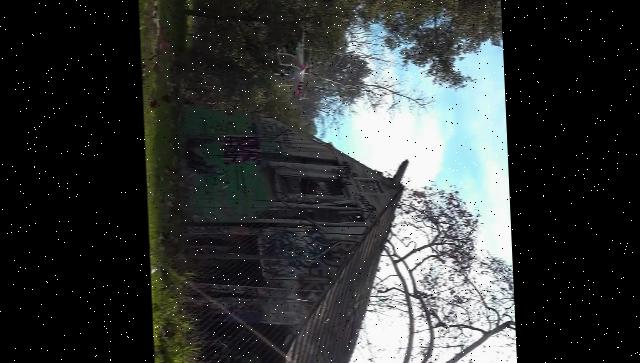drone: (272, 27, 316, 102)
